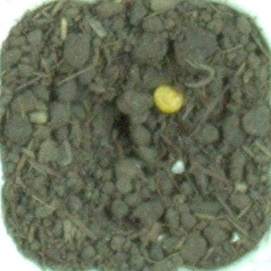pepper seed: (60, 28, 245, 142)
